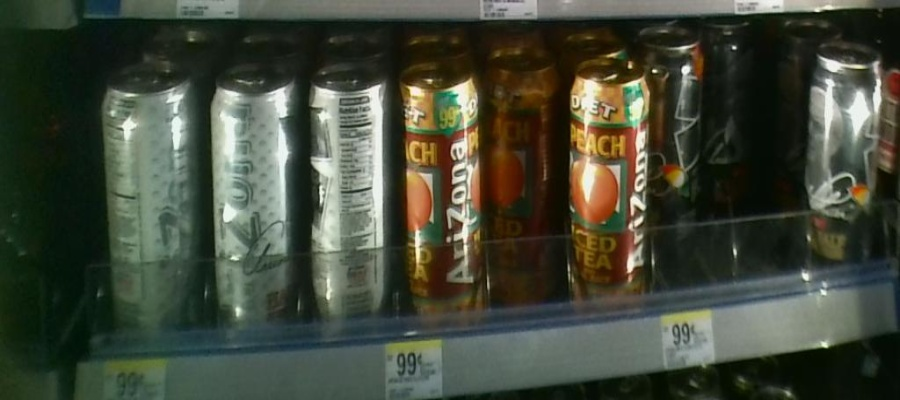bottle: (101, 51, 207, 365), (206, 47, 304, 357), (396, 44, 483, 374), (307, 50, 391, 362), (562, 47, 651, 329), (484, 38, 560, 329), (802, 34, 882, 285), (652, 22, 709, 292)
